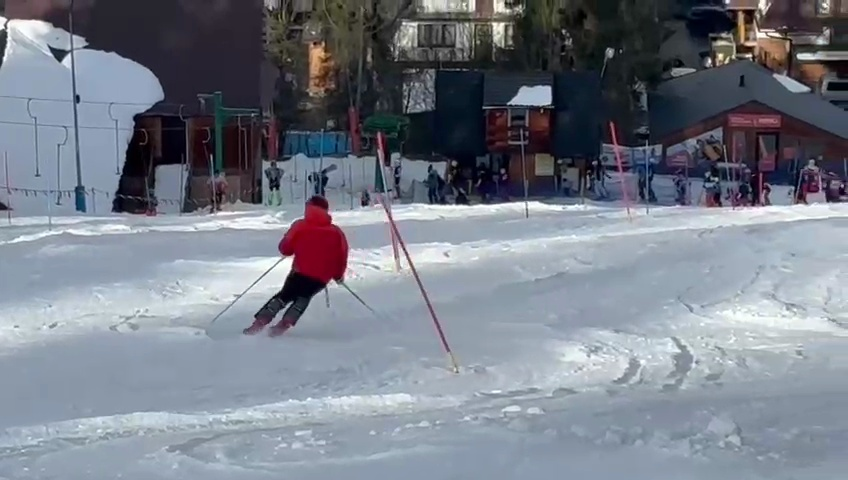gate: (376, 175, 463, 375), (609, 119, 634, 224), (515, 125, 534, 224), (30, 114, 42, 179), (2, 149, 15, 197), (301, 169, 313, 218)
